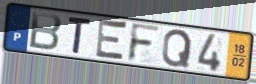4: (196, 32, 223, 73)
B: (27, 10, 64, 53)
E: (93, 16, 130, 64)
F: (126, 22, 163, 64)
Q: (160, 28, 194, 69)
T: (66, 15, 93, 56)
